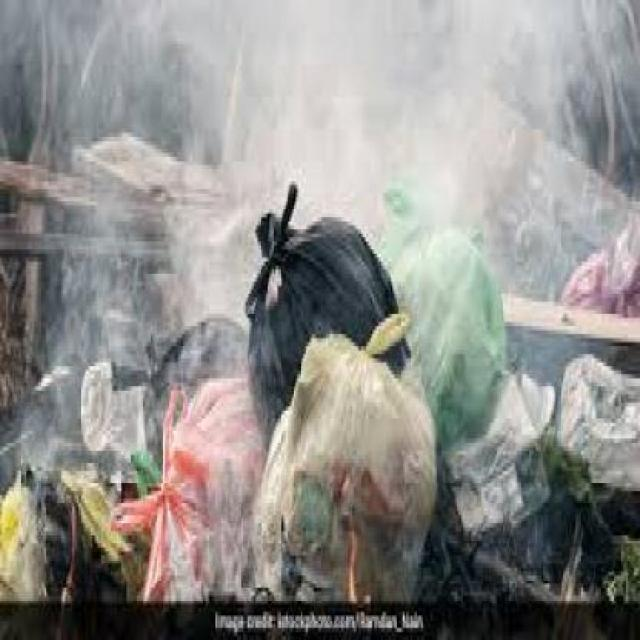garbage: (3, 0, 637, 595)
